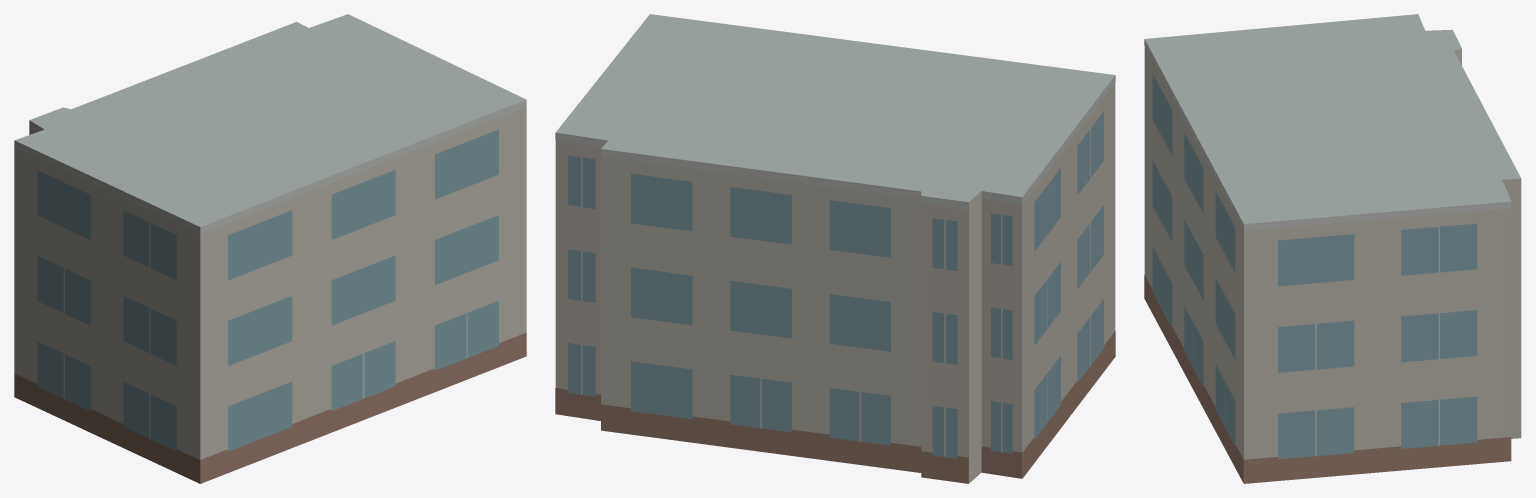
The model's file is survey-upis-32749808.glb.
The picture shows the model from 3 angles, left to right: view 1: azimuth 30°, elevation 25°; view 2: azimuth 150°, elevation 25°; view 3: azimuth 270°, elevation 25°; orthographic projection. The views are drawn at different scales.
Parts seen in each view (by area): view 1: survey-upis-32749808.tmp; view 2: survey-upis-32749808.tmp; view 3: survey-upis-32749808.tmp.
Part boxes in pixels (<box>): survey-upis-32749808.tmp: <box>14,14,526,483</box>; survey-upis-32749808.tmp: <box>555,14,1115,483</box>; survey-upis-32749808.tmp: <box>1144,14,1521,483</box>.
Bounding box in the file's own units: 15.89 × 9.15 × 12.05.
